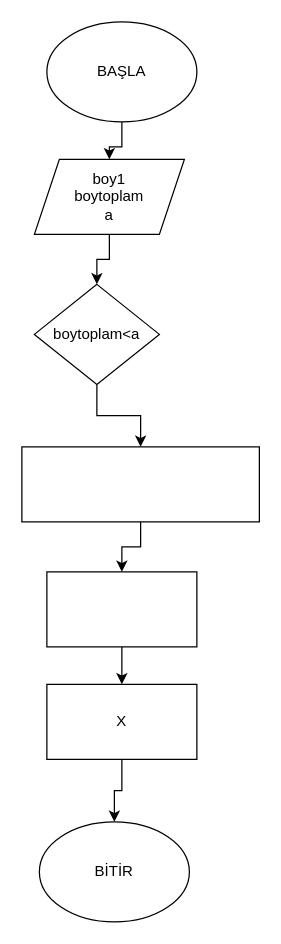
Image size: 281x944. Some labels were removed from this diagram. The centre of each missing label's shape, as x and y in pixels:
"(sqrt)sonuc=x" belongs at point 121,609.
"boy1=boy1*boy1 x=x*x boytoplam=boytoplam*boytoplam" belongs at point 140,484.
